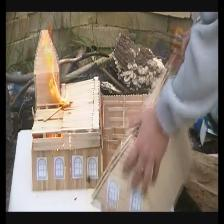fire: (46, 52, 68, 105)
